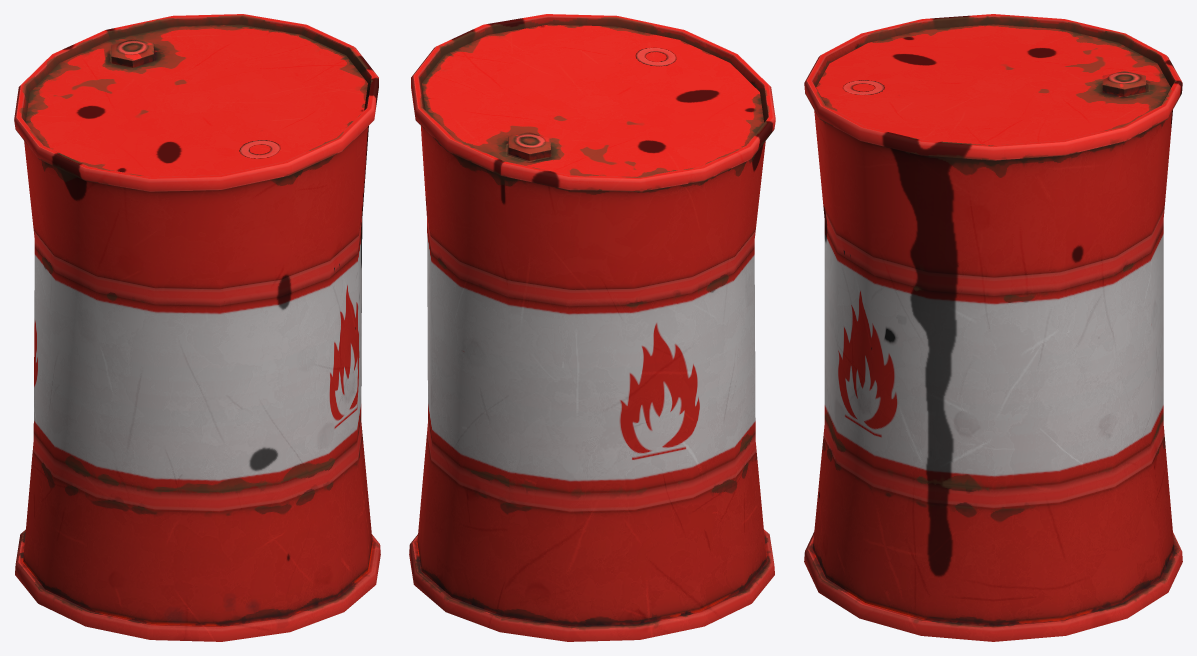
File: BarrelMetallic01_1.FBX
The picture shows the model from 3 angles, left to right: view 1: azimuth 30°, elevation 25°; view 2: azimuth 150°, elevation 25°; view 3: azimuth 270°, elevation 25°; orthographic projection. The views are drawn at different scales.
Parts seen in each view (by area): view 1: BarrelMetallic01_1; view 2: BarrelMetallic01_1; view 3: BarrelMetallic01_1.
Part boxes in pixels (box(x1,y1,x2,y2)): BarrelMetallic01_1: box(14, 14, 380, 641); BarrelMetallic01_1: box(409, 14, 775, 641); BarrelMetallic01_1: box(804, 14, 1182, 641).
Size of what is drawn, in the model's own units: 0.7502 by 1.07 by 0.7485.
